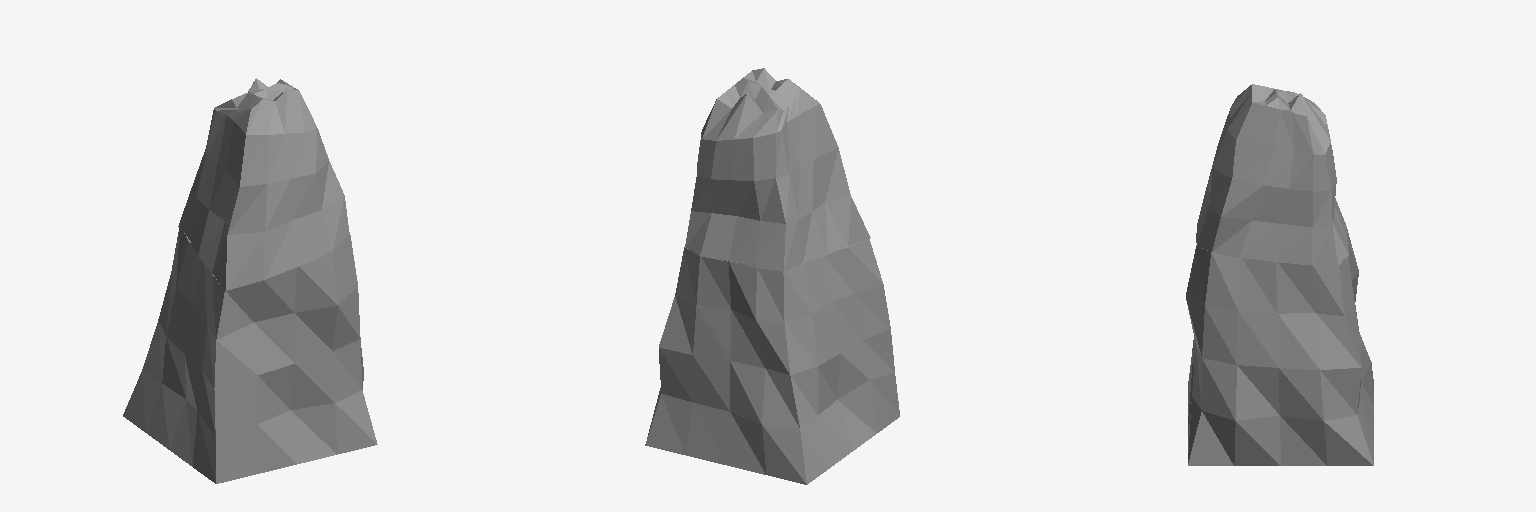
The model's file is Rock.obj.
The picture shows the model from 3 angles: view 1: azimuth 30°, elevation 25°; view 2: azimuth 150°, elevation 25°; view 3: azimuth 270°, elevation 25°; orthographic projection.
Visible parts, largest first — view 1: Cube; view 2: Cube; view 3: Cube.
Part boxes in pixels (left/top/right/bottom): Cube: left=123, top=228, right=377, bottom=483; Cube: left=645, top=239, right=899, bottom=484; Cube: left=1186, top=229, right=1373, bottom=465.
Size of the model in its own units: 0.8521 by 1.64 by 0.809.